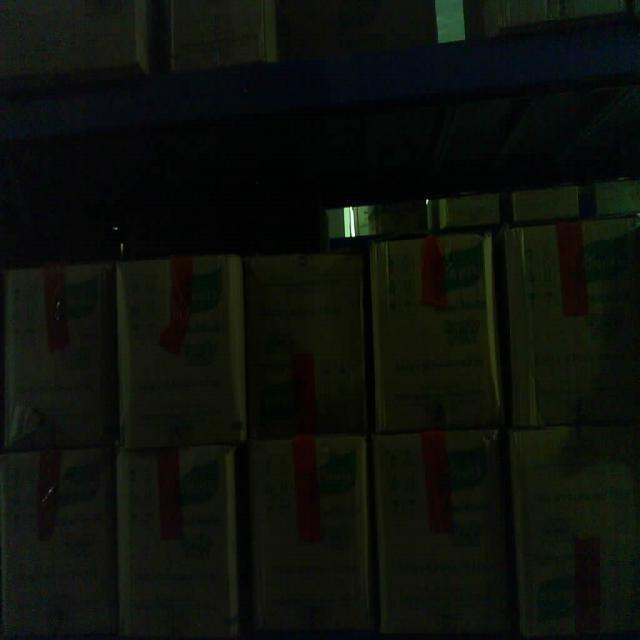cardboxes: (500, 222, 640, 432), (503, 433, 640, 640), (368, 436, 506, 640), (112, 248, 248, 454), (370, 231, 500, 440), (240, 440, 370, 640), (241, 243, 370, 442), (109, 447, 240, 640), (3, 257, 119, 450), (0, 447, 114, 640)
